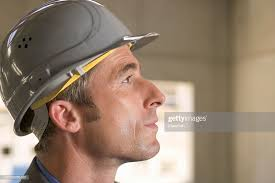Person_wearing_helmet: (0, 2, 189, 112)
